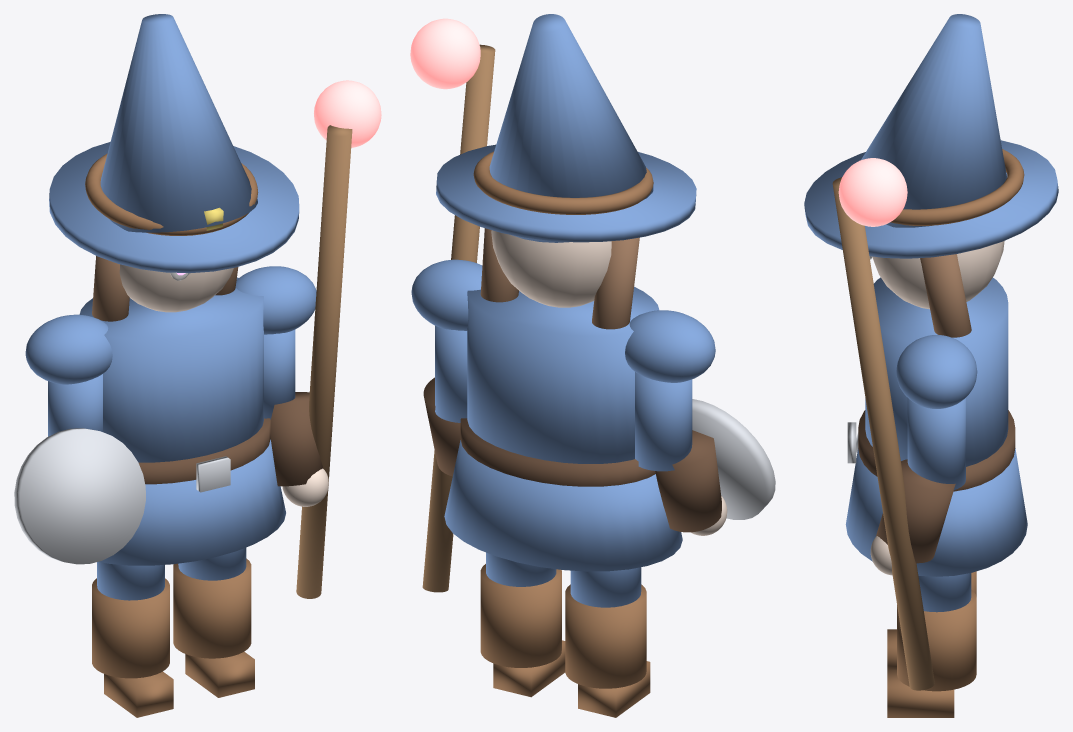
Rendered from hero_mage.glb.
3 views of the same model, side by side, from view 1: azimuth 30°, elevation 25°; view 2: azimuth 150°, elevation 25°; view 3: azimuth 270°, elevation 25° (orthographic). The views are drawn at different scales.
Visible parts, largest first — view 1: Cylinder.003, Cone, Cylinder.014, Cylinder, Cone.001, Cylinder.013, Cylinder.008, Cylinder.006, Sphere.007, Sphere.009, Cylinder.012, Sphere (+12 smaller); view 2: Cylinder.003, Cone.001, Cone, Cylinder, Cylinder.006, Cylinder.008, Sphere, Cylinder.013, Cylinder.014, Sphere.007, Cylinder.009, Cylinder.010 (+12 smaller); view 3: Cone, Cylinder.013, Cylinder.003, Cylinder, Cone.001, Sphere.009, Cylinder.011, Cylinder.008, Sphere.011, Sphere, Cylinder.012, Cylinder.002 (+6 smaller).
Part boxes in pixels (x1,y1,x2,y2): Cylinder.003: (79,277,263,462); Cone: (100,14,257,232); Cylinder.014: (14,428,145,564); Cylinder: (49,142,299,273); Cone.001: (98,439,285,565); Cylinder.013: (296,125,352,598); Cylinder.008: (173,558,251,658); Cylinder.006: (92,578,169,678); Sphere.007: (25,314,112,384); Sphere.009: (235,266,316,334); Cylinder.012: (270,392,323,486); Sphere: (119,264,234,312); Cylinder.003: (467,286,659,463); Cone.001: (444,440,682,571); Cone: (489,14,653,242); Cylinder: (436,144,696,242); Cylinder.006: (565,584,646,688); Cylinder.008: (480,564,561,667); Sphere: (491,230,611,307); Cylinder.013: (422,44,495,592); Cylinder.014: (692,399,775,519); Sphere.007: (625,310,715,382); Cylinder.009: (635,372,692,471); Cylinder.010: (655,430,721,532); Cone: (861,14,1006,227); Cylinder.013: (832,177,934,690); Cylinder.003: (865,277,1008,466); Cylinder: (804,140,1058,258); Cone.001: (845,448,1027,576); Sphere.009: (896,335,977,408); Cylinder.011: (907,398,965,489); Cylinder.008: (897,589,976,691); Sphere.011: (838,158,907,226); Sphere: (872,241,1004,309); Cylinder.012: (876,459,955,563); Cylinder.002: (920,254,971,337).
Size of the model in its own units: 0.7756 by 1.39 by 0.48.
